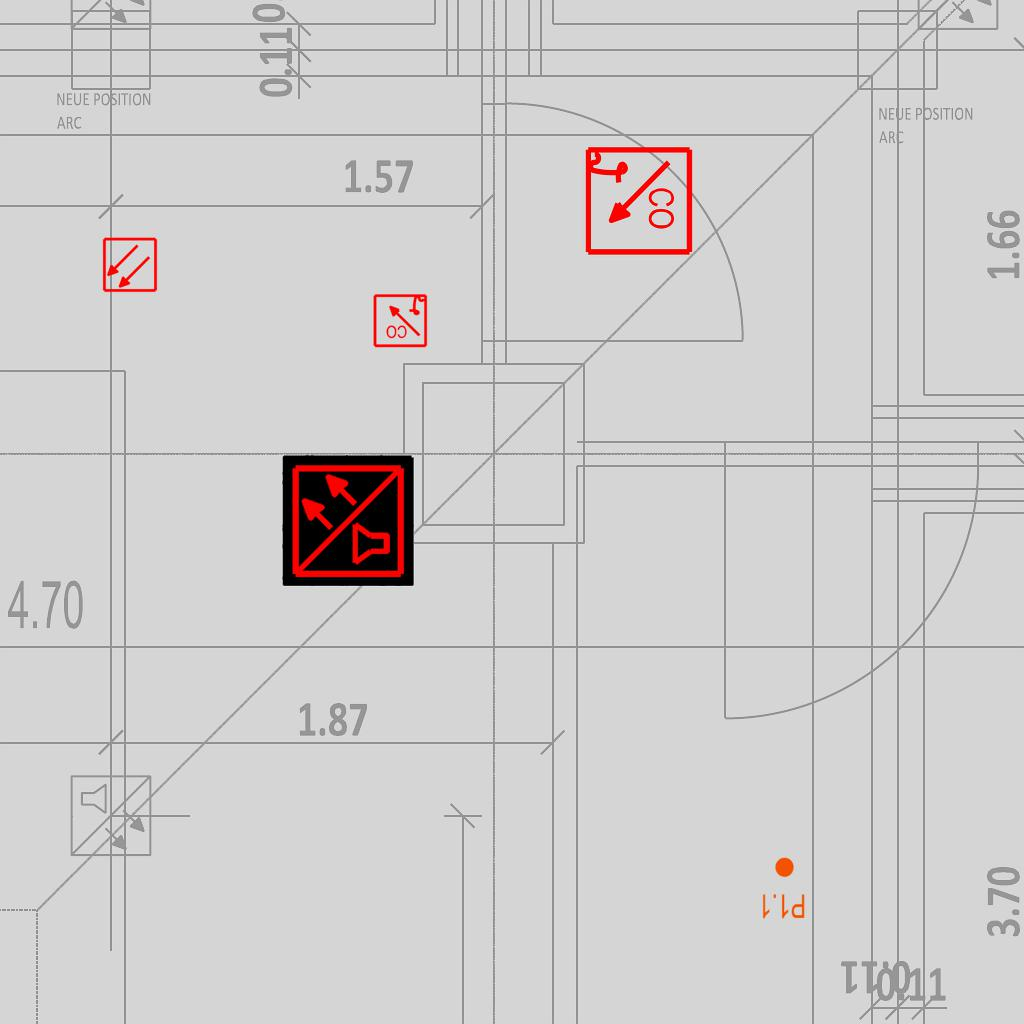Downlight_LED_Einbauleuchten_Flur: (760, 856, 806, 920)
OKW_Multisensormelder_(Kombination_optischer_Rauch-Kahlenmonoxid_Waerme-Melder): (282, 454, 414, 586)
RMO_Rauchmelder_optischer: (102, 237, 158, 293)
ROA_Rauchmelder_optisch_mit_Signalgeber_(Sockelsirene): (581, 145, 694, 258), (372, 292, 428, 348)
